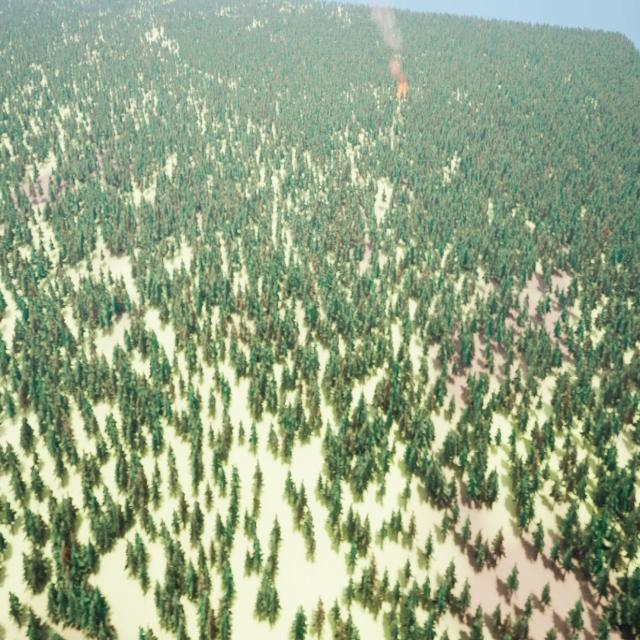fire: (396, 81, 410, 103)
smoke: (370, 5, 408, 84)
